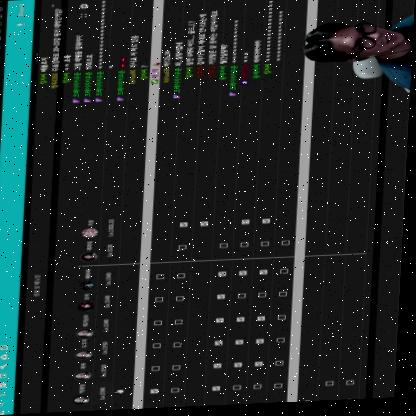streamer: (301, 15, 415, 100)
